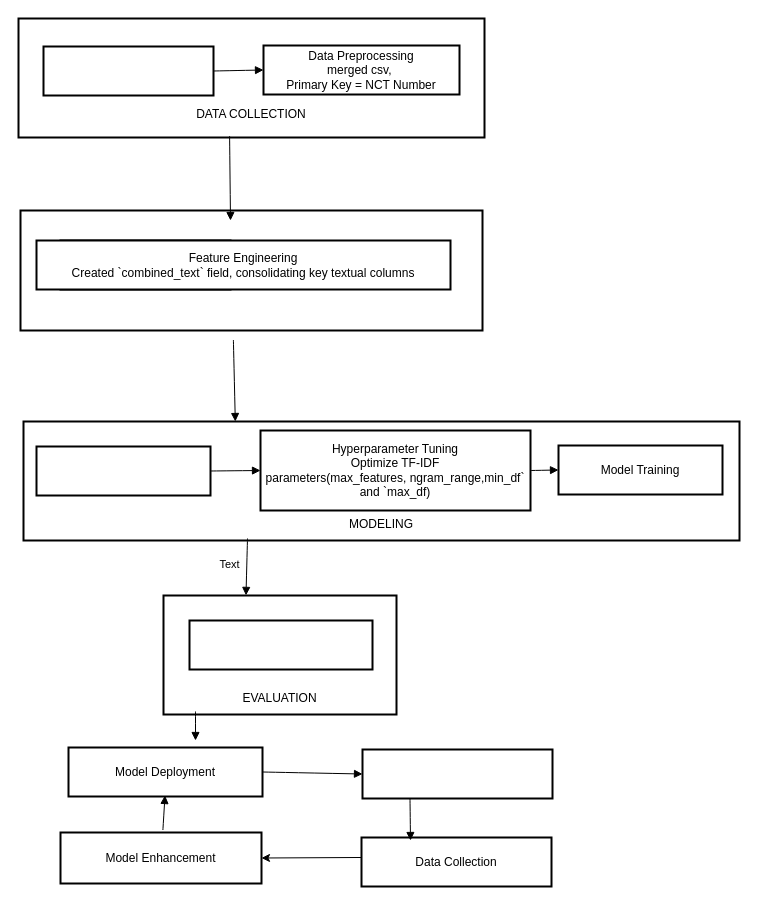
The diagram is 757 pixels wide and 904 high, and some of its shapes have lost their labels. Each missing label, with the box of its shape:
Data Collection 5 csv(provided): (42, 45, 214, 96)
DATA PREPROCESSING: (19, 209, 483, 331)
Model Evaluation Cosine Similarity Scores: (188, 619, 373, 670)
Model Monitoring: (361, 748, 553, 799)
Model Selection TF-IDF with Cosine Similarity: (35, 445, 211, 496)
